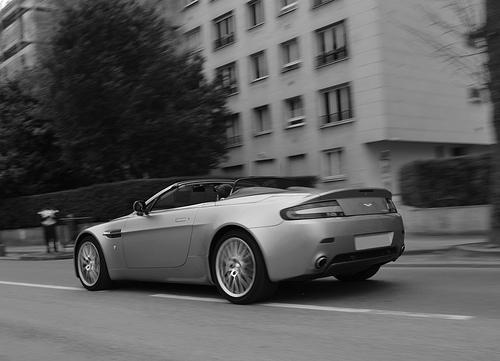car: (63, 175, 417, 320)
